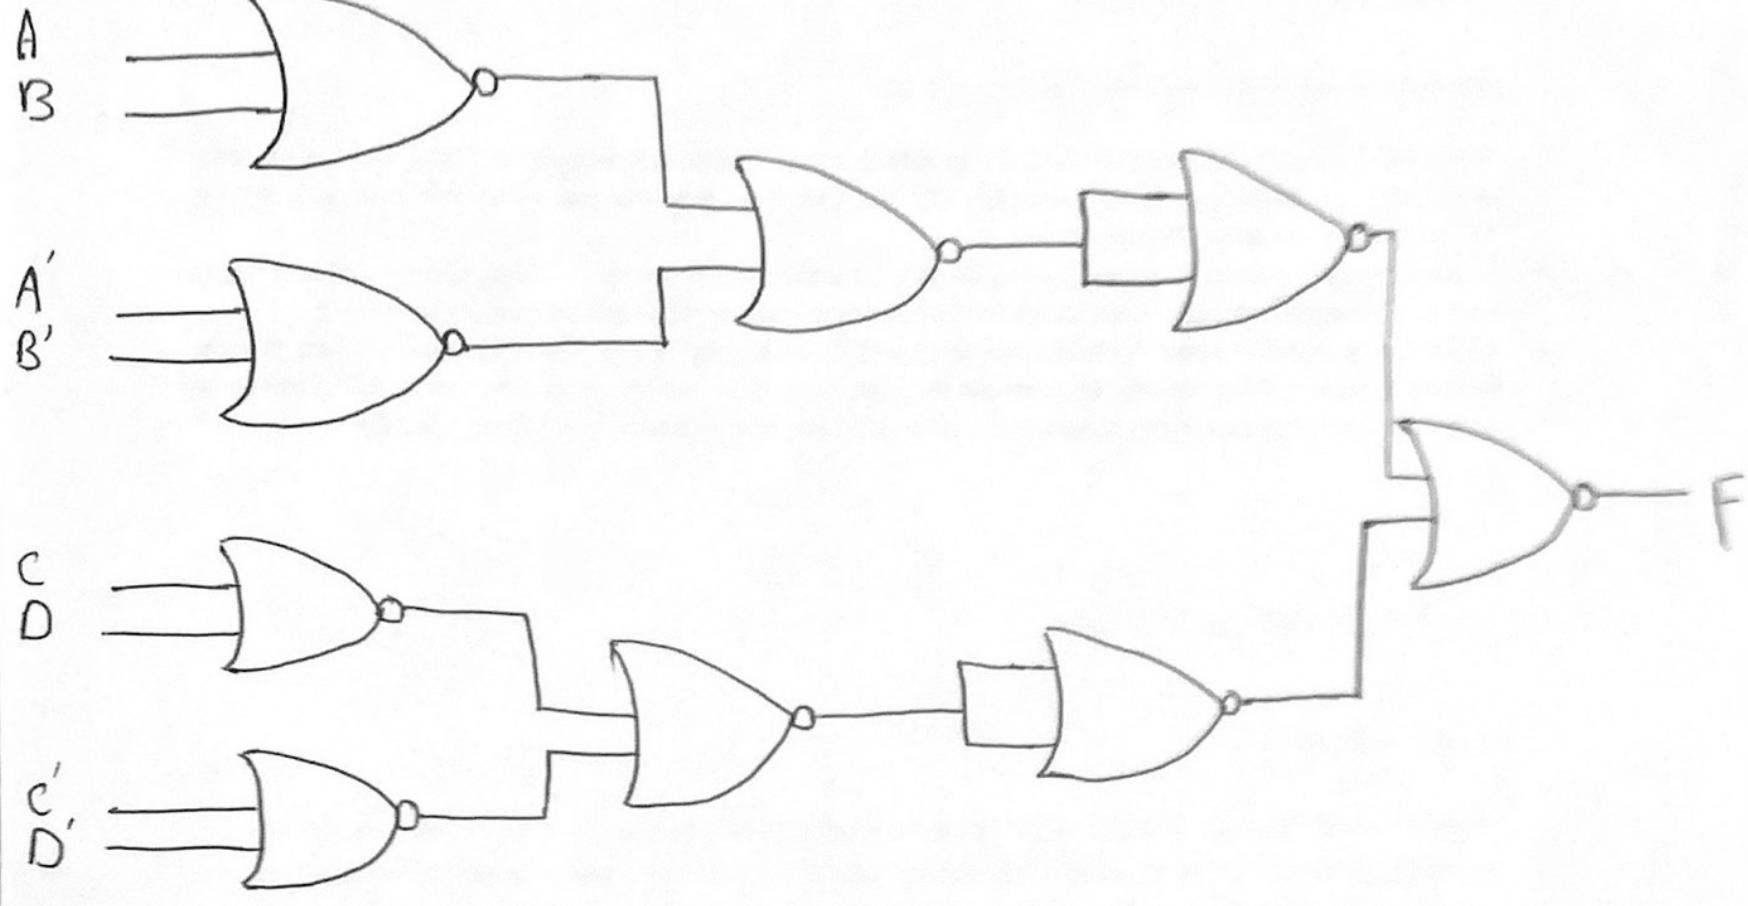NOR: (195, 244, 494, 444), (726, 133, 983, 354), (204, 0, 518, 181), (1005, 602, 1257, 814), (583, 614, 819, 819), (1150, 135, 1381, 335), (1394, 407, 1608, 612), (203, 728, 436, 905), (195, 510, 424, 677)
